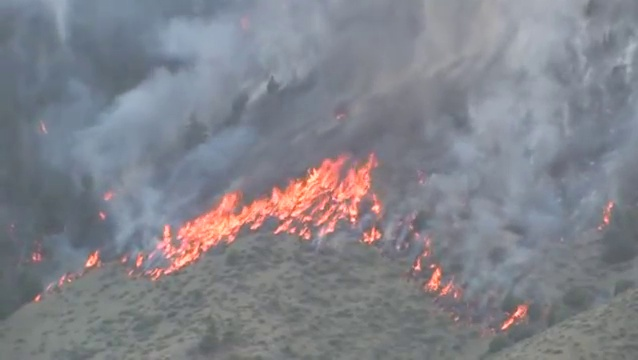fire: (149, 155, 378, 279), (426, 270, 442, 289), (85, 249, 99, 268)
